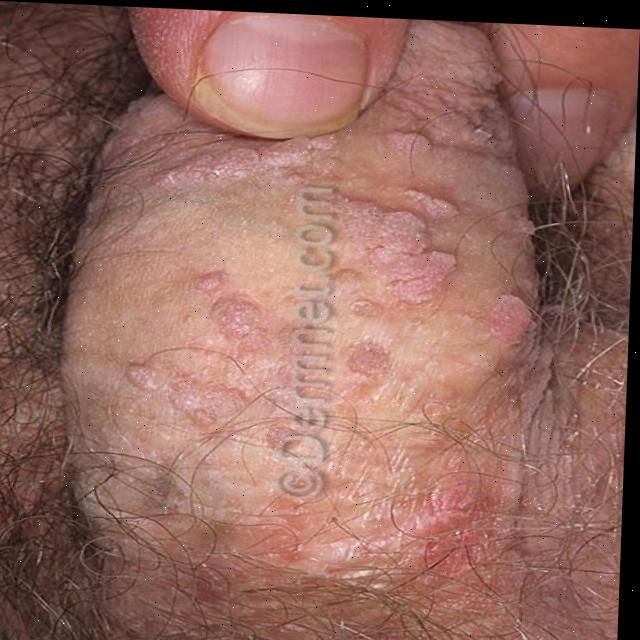Shingles: (154, 112, 483, 522)
